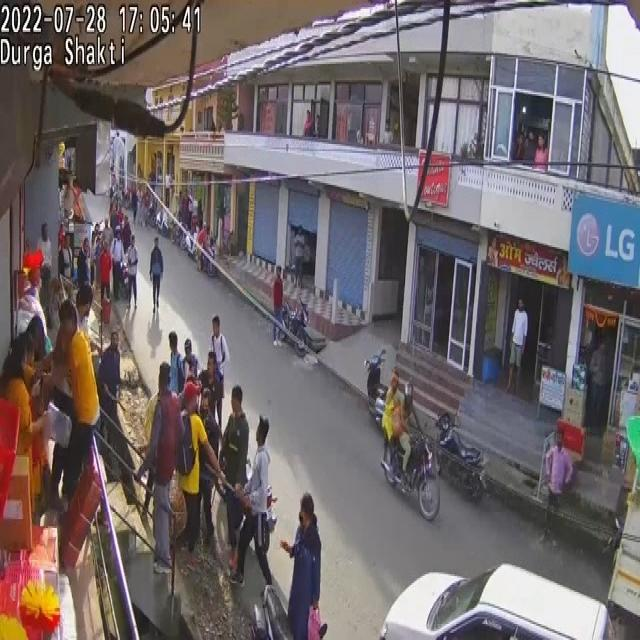fight: (0, 399, 65, 637), (76, 292, 136, 495), (52, 302, 102, 507), (141, 365, 183, 573), (178, 386, 229, 556), (2, 336, 48, 513), (280, 491, 323, 637), (16, 261, 48, 351)
non-fight: (231, 419, 273, 592), (221, 387, 251, 558), (538, 425, 572, 544), (210, 315, 230, 422), (506, 298, 528, 392), (381, 370, 403, 464), (148, 235, 163, 314), (168, 332, 185, 397), (111, 228, 125, 301), (272, 266, 284, 346), (99, 240, 112, 305), (196, 222, 208, 273), (132, 188, 138, 223)
